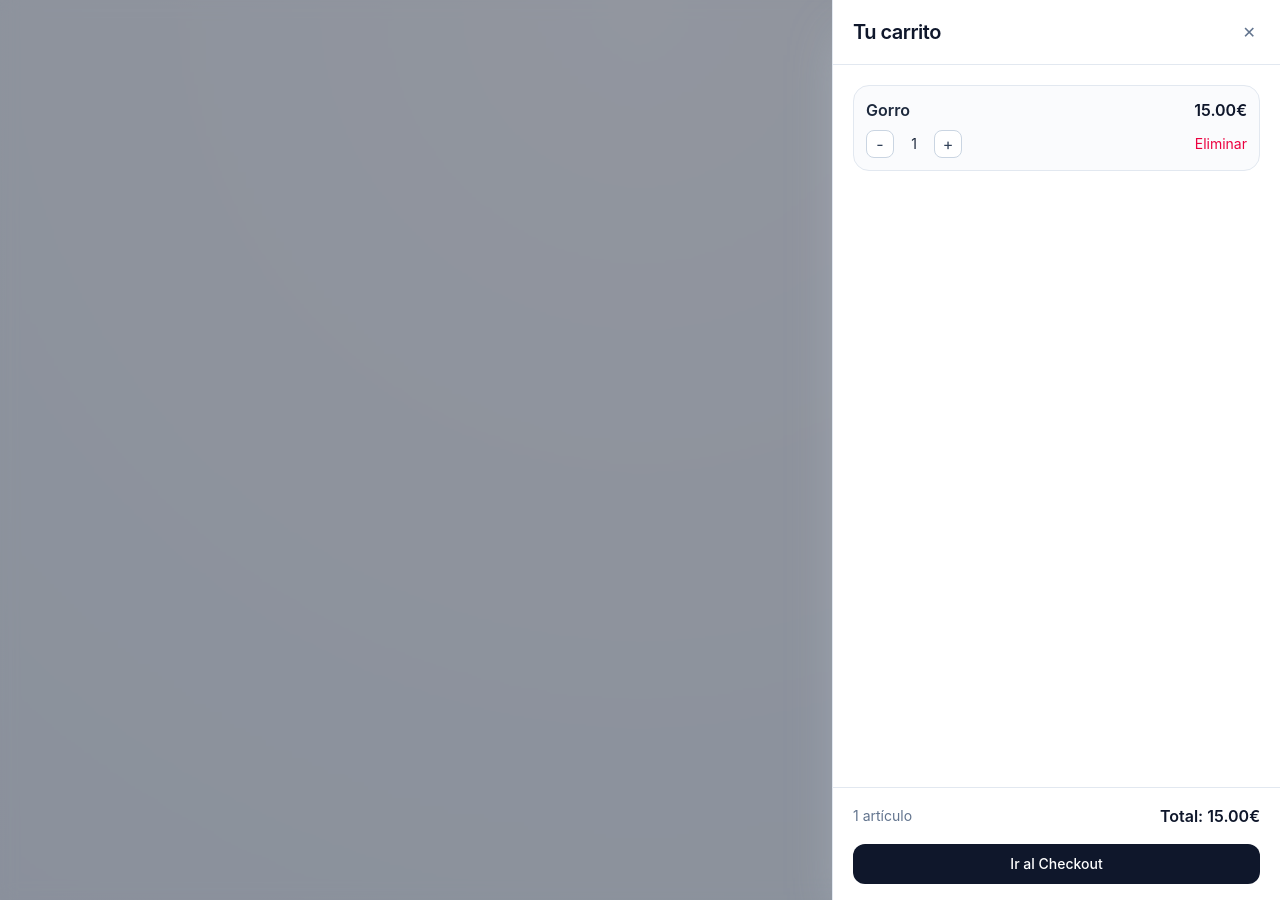
Test: CartDrawer › Interactions › should remove item when delete button is clicked
expect the text "Gorro" is shown: met, box [866,98,910,122]
What coordinates should you click on to do the following:
click the button "Eliminar"
I would click on:
 (1221, 144)
Its box is [1195,134,1247,154].
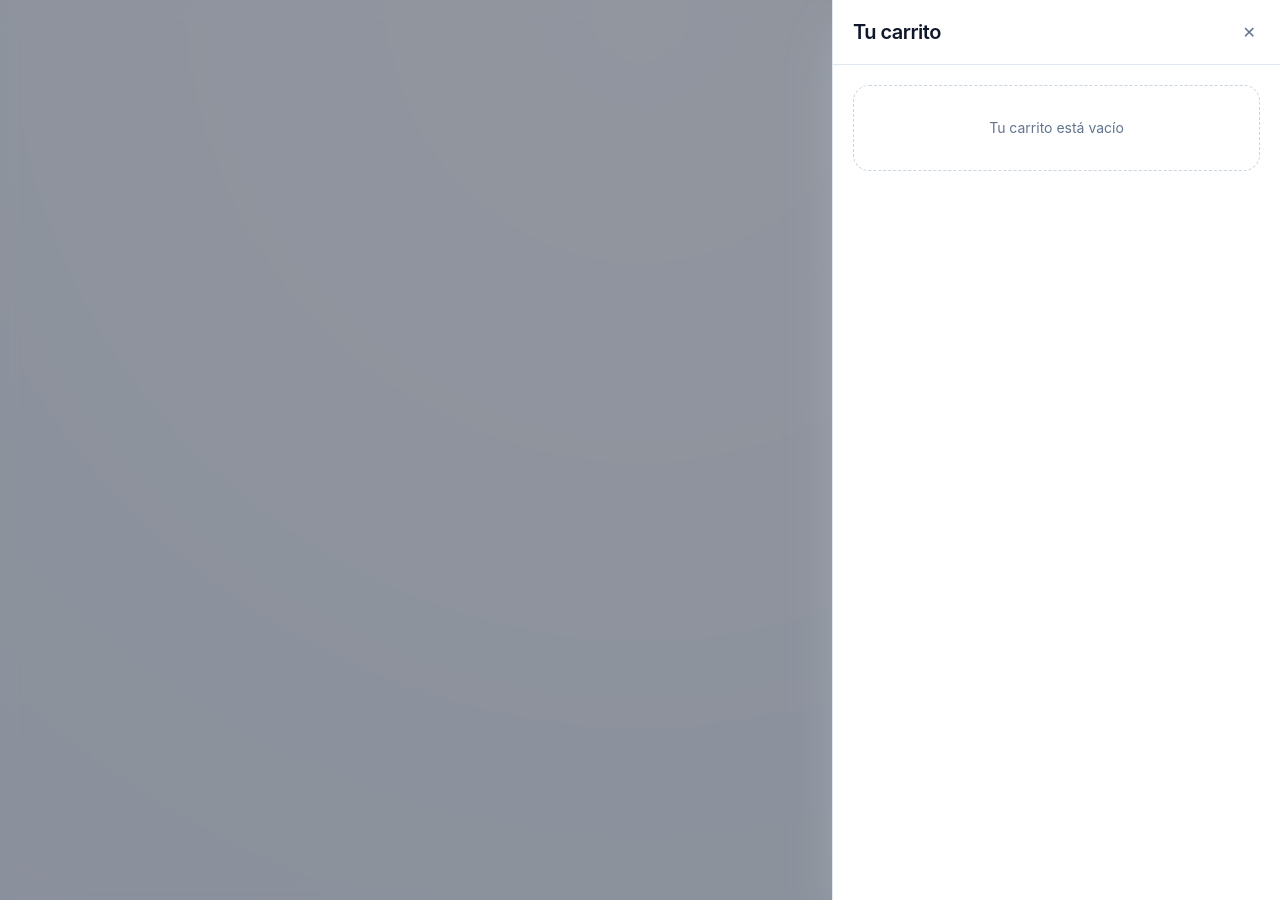
expect the text "Gorro" is gone: met
expect the text "Tu carrito está vacío" is shown: met, box [853,85,1260,171]
